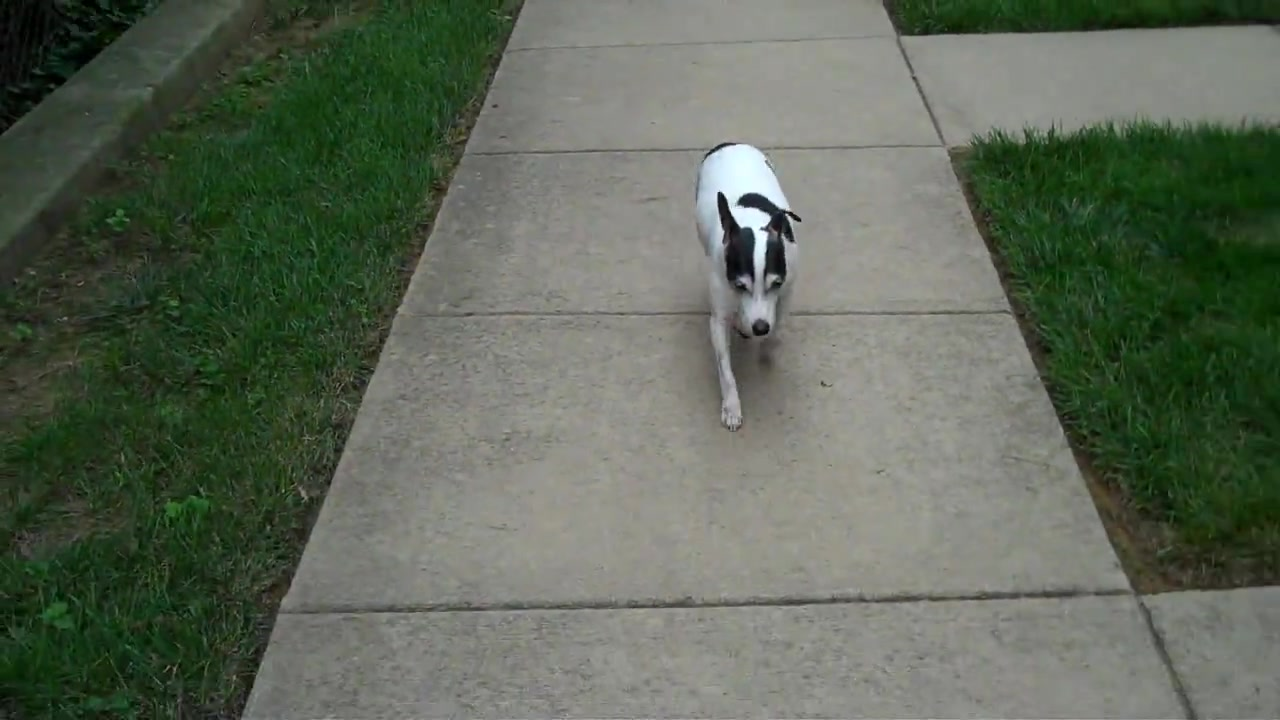dog: (695, 138, 799, 432)
